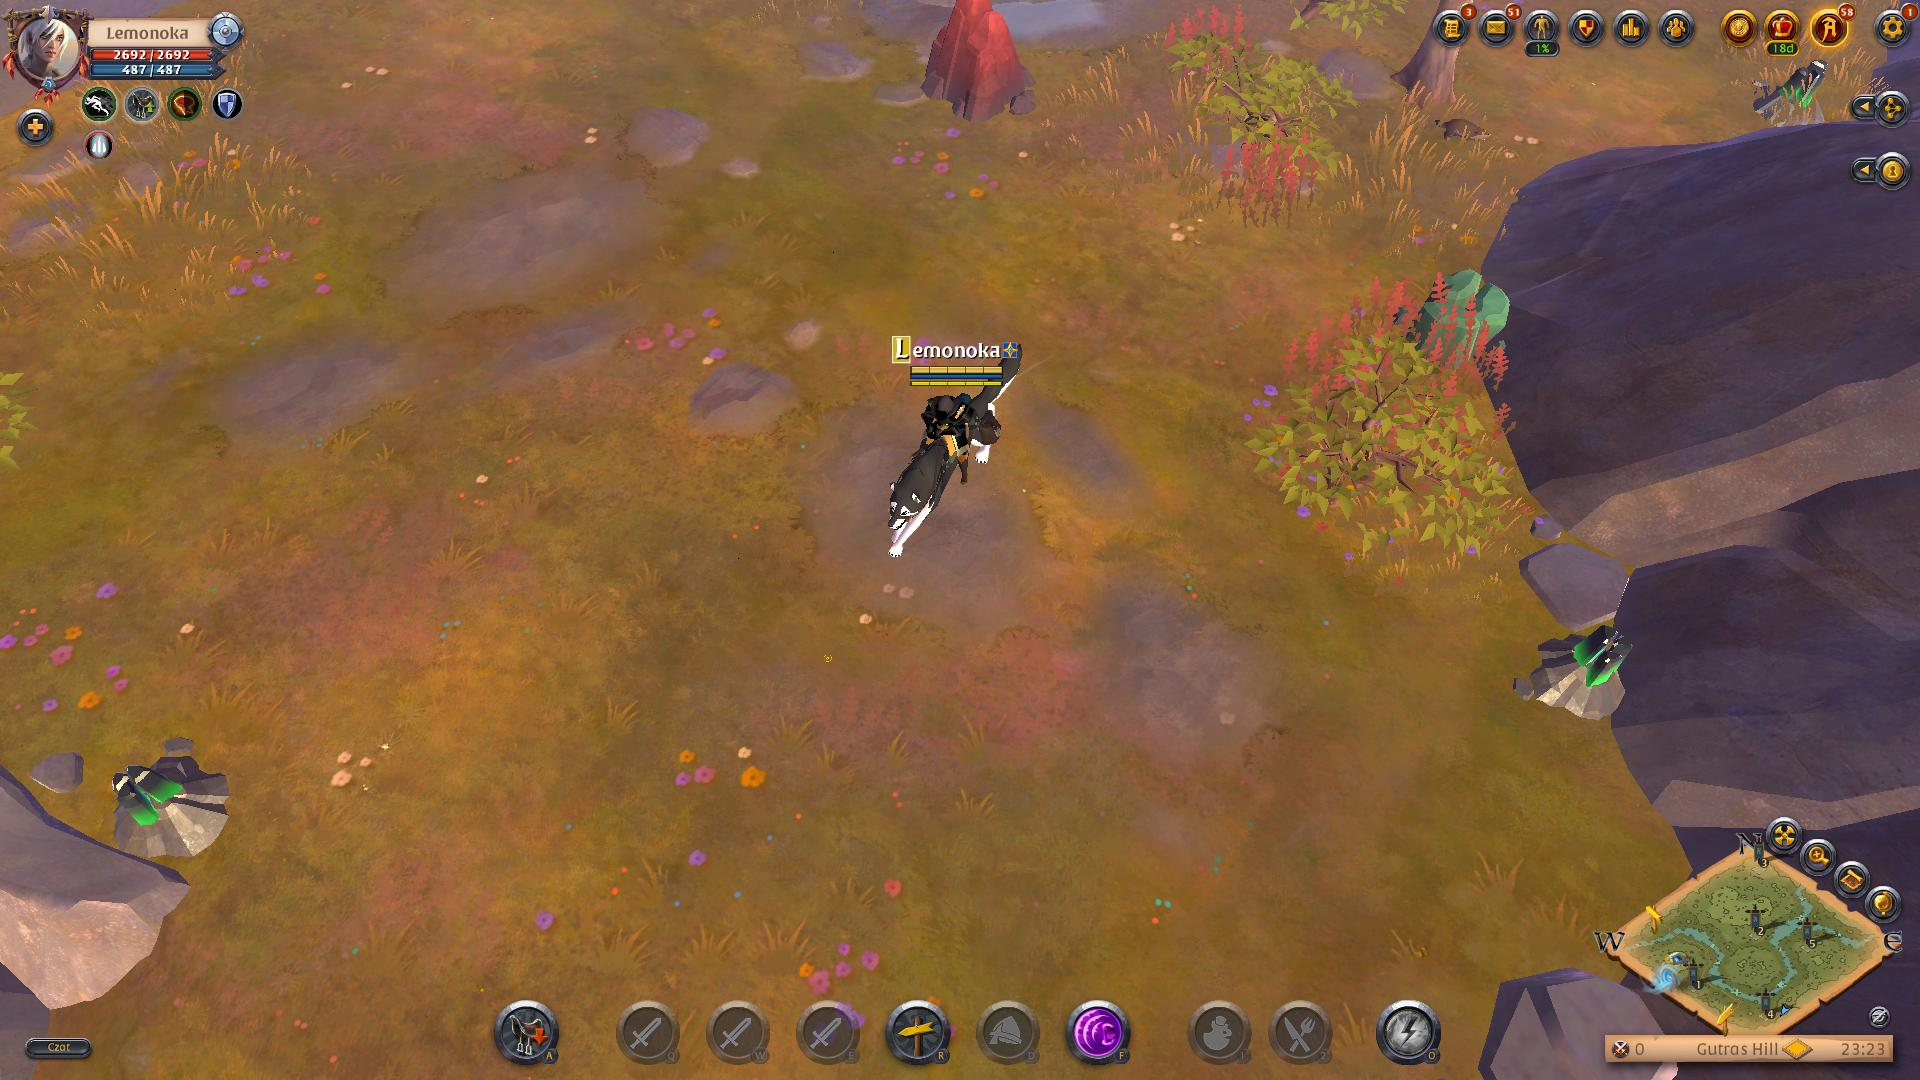ore tier 3: (1520, 613, 1634, 732), (108, 750, 228, 857)
rock tier 5: (916, 0, 1048, 125)
